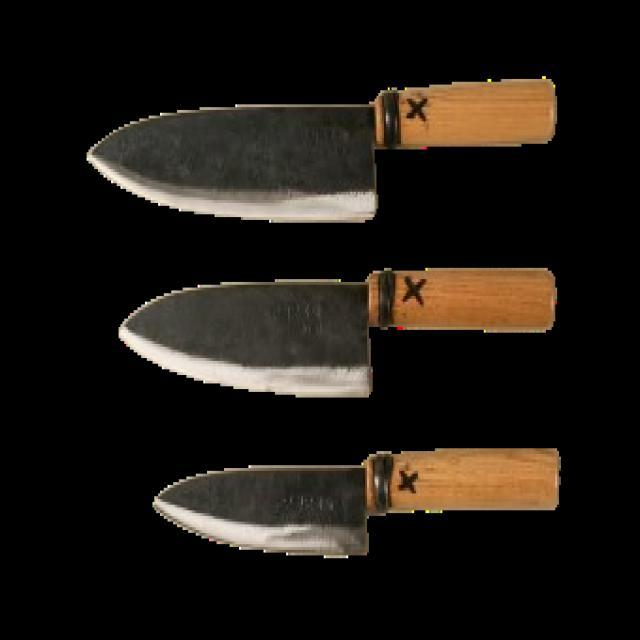knife: (91, 81, 555, 224), (114, 266, 558, 407), (145, 446, 563, 559)
